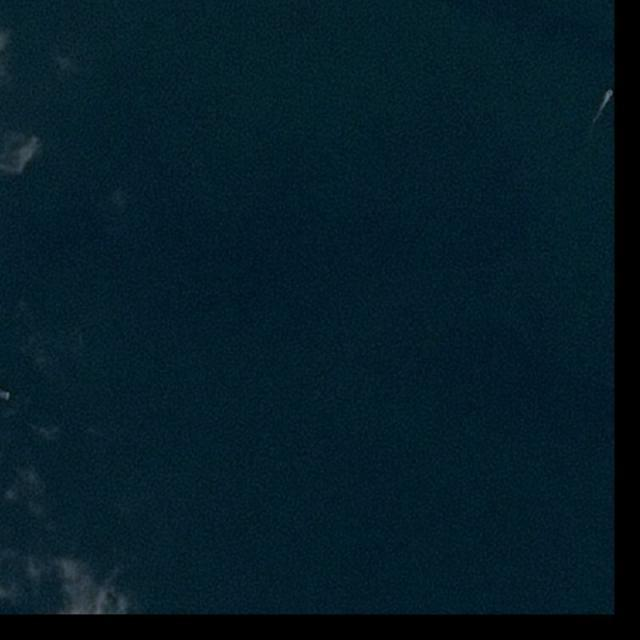ship: (0, 390, 10, 401), (606, 89, 614, 97)
